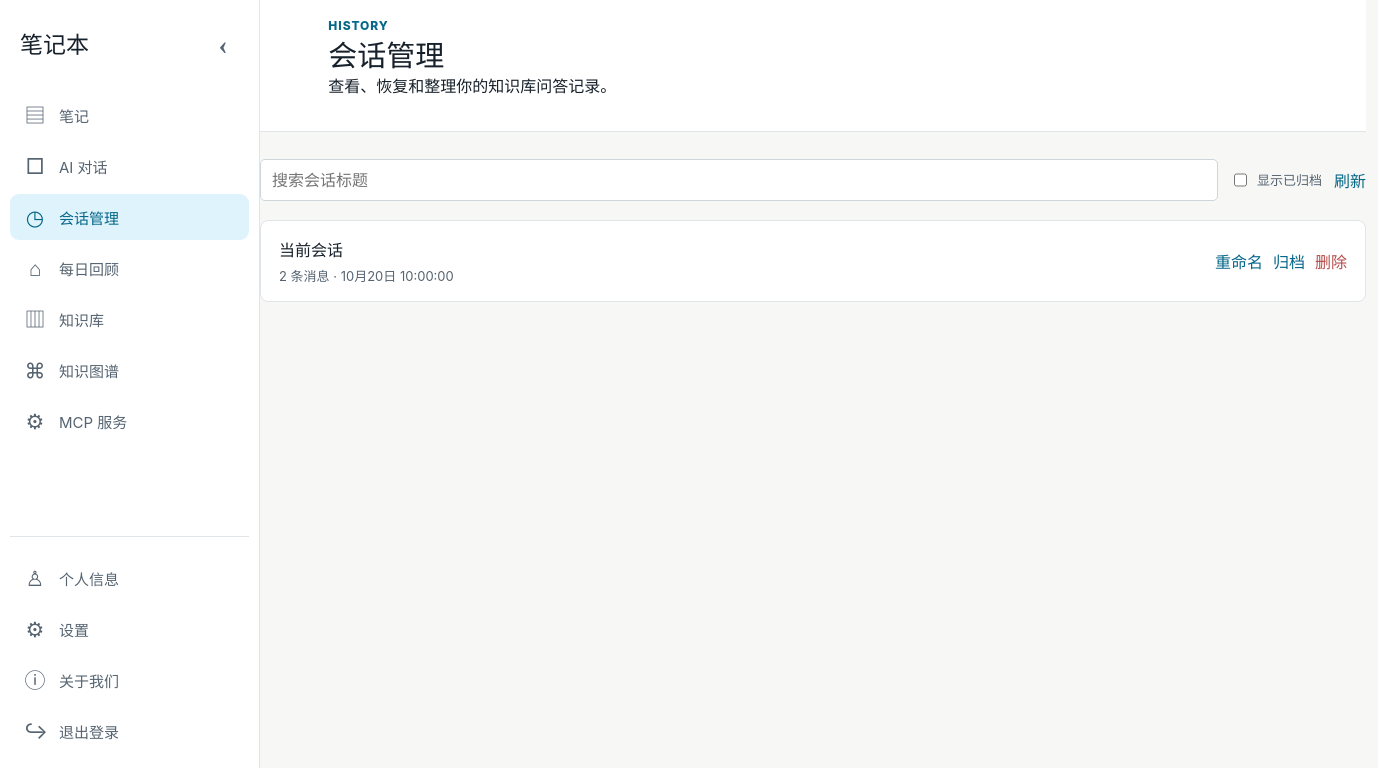
it: SessionsPage › reloads sessions when the refresh action is used
Expected: the button "当前会话 2 条消息 · 10月20日 10:00:00" is shown, [279,237,1199,285]
Click the button "刷新".
click(1350, 180)  # box [1334,168,1366,192]
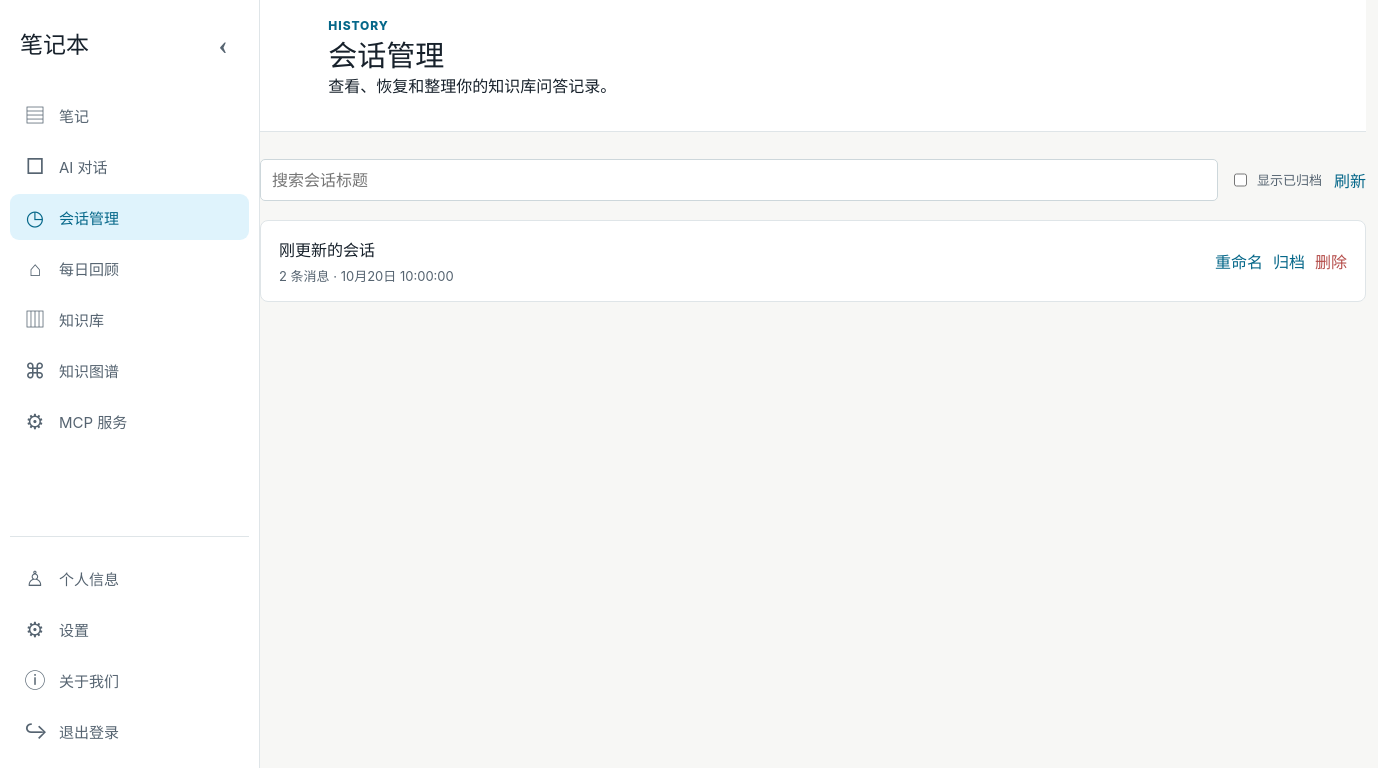
Result: the button "刚更新的会话 2 条消息 · 10月20日 10:00:00" is shown at [279,237,1199,285]
